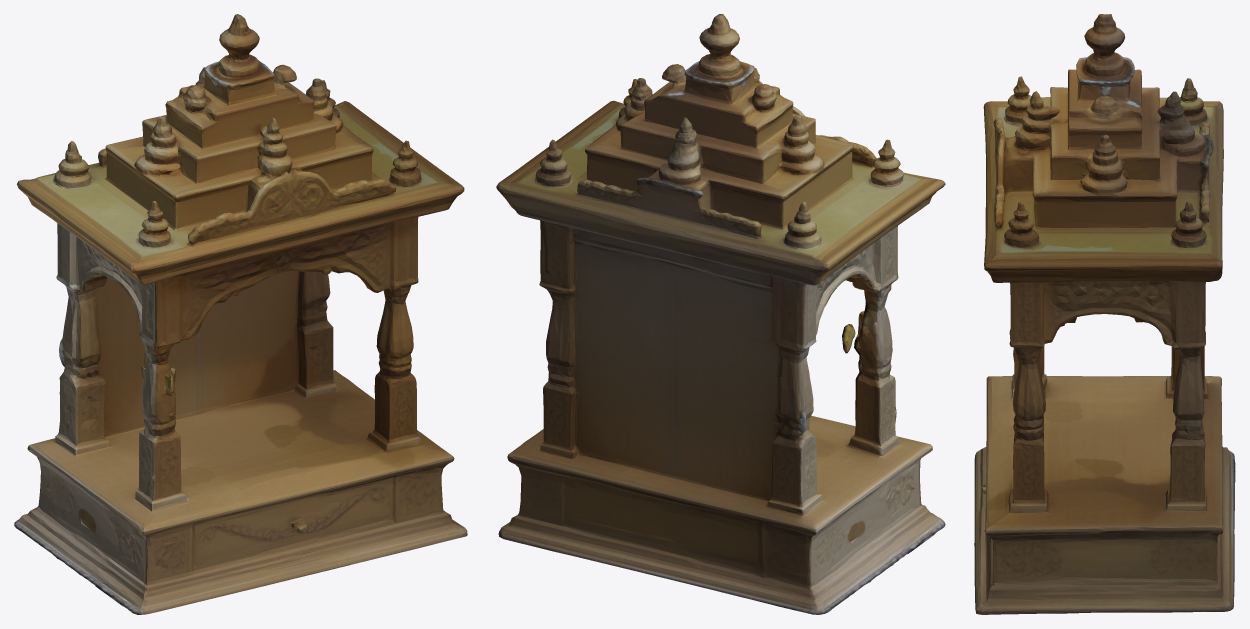
File: templelay.glb
3 views of the same model, side by side, from view 1: azimuth 30°, elevation 25°; view 2: azimuth 150°, elevation 25°; view 3: azimuth 270°, elevation 25° (orthographic).
Parts seen in each view (by area): view 1: world; view 2: world; view 3: world.
Part boxes in pixels (x1,y1,x2,y2): world: (14, 14, 467, 614); world: (496, 14, 945, 614); world: (974, 14, 1235, 614).
Size of the model in its own units: 0.6816 by 1 by 0.4567.
1 material, 1 textured.
